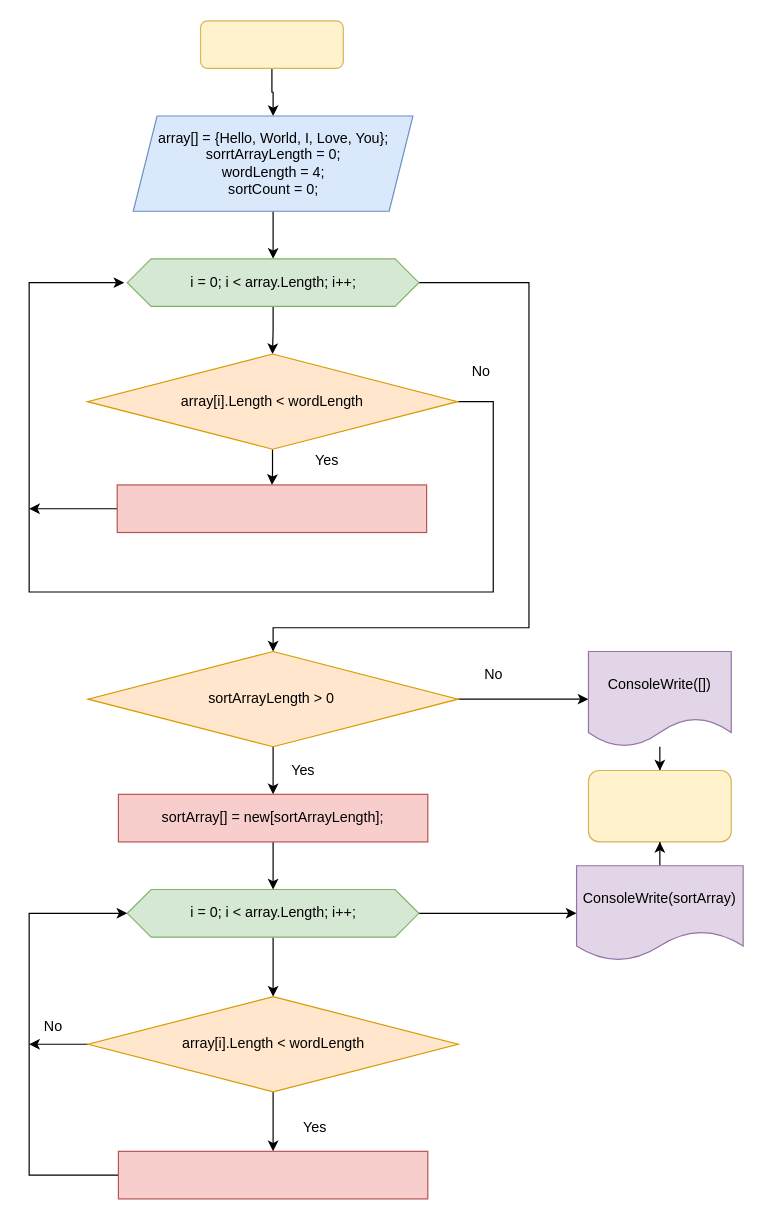
Image size: 764x1220. Some labels were removed from this diagram. The box of each missing label's shape, as (x1, y1, x2, y2) in pixels:
sortArray[sorttCount] = array[i]; sortCount++;: (117, 1150, 428, 1199)
sortArrayLength ++: (116, 484, 427, 533)
Конец: (587, 769, 731, 842)
Начало: (199, 20, 343, 68)
